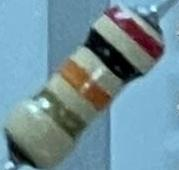Black: (81, 23, 146, 85)
Orange: (55, 57, 115, 116)
Red: (104, 3, 167, 64)
Side-Gold: (29, 86, 89, 145)
